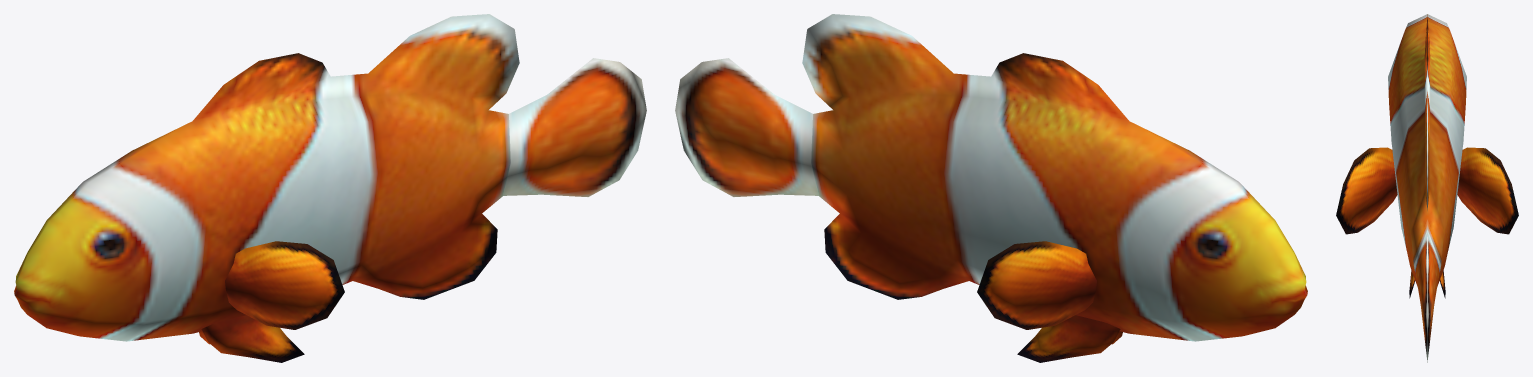
Rendered from f03_xiaochouyu.FBX.
3 views of the same model, side by side, from view 1: azimuth 30°, elevation 25°; view 2: azimuth 150°, elevation 25°; view 3: azimuth 270°, elevation 25° (orthographic). The views are drawn at different scales.
Visible parts, largest first — view 1: f03_xiaochouyu; view 2: f03_xiaochouyu; view 3: f03_xiaochouyu.
Boxes of the visible parts, box(x1,y1,x2,y2) form: f03_xiaochouyu: box(14, 14, 646, 362); f03_xiaochouyu: box(675, 14, 1307, 362); f03_xiaochouyu: box(1336, 14, 1518, 362).
Bounding box in the file's own units: 58.89 × 26.52 × 16.31.
Materials: 1 (1 with a texture image).
